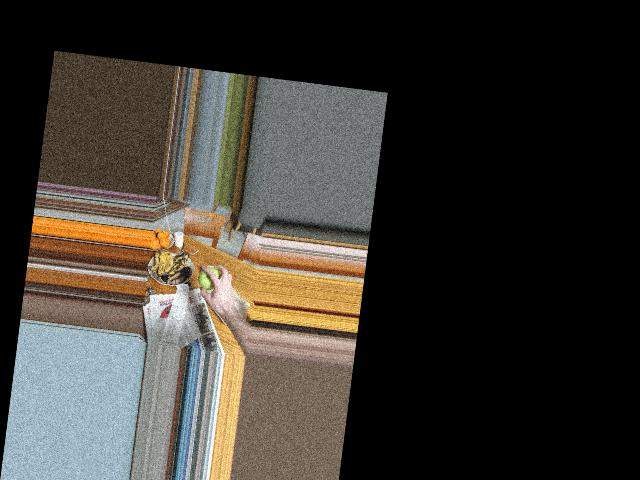apple: (197, 264, 221, 292)
